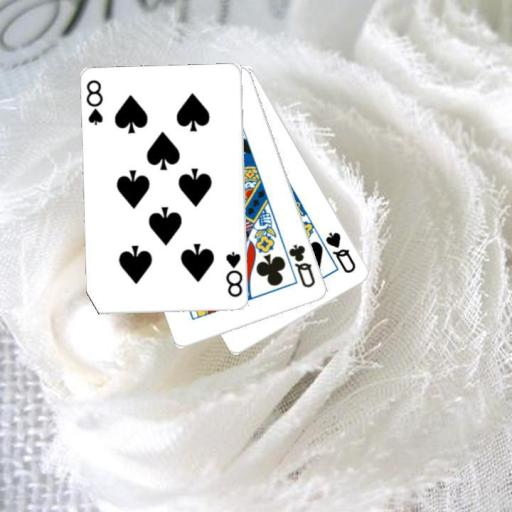8S: (223, 248, 244, 299), (84, 78, 105, 128)
QC: (286, 241, 317, 289)
QS: (322, 228, 358, 275)
